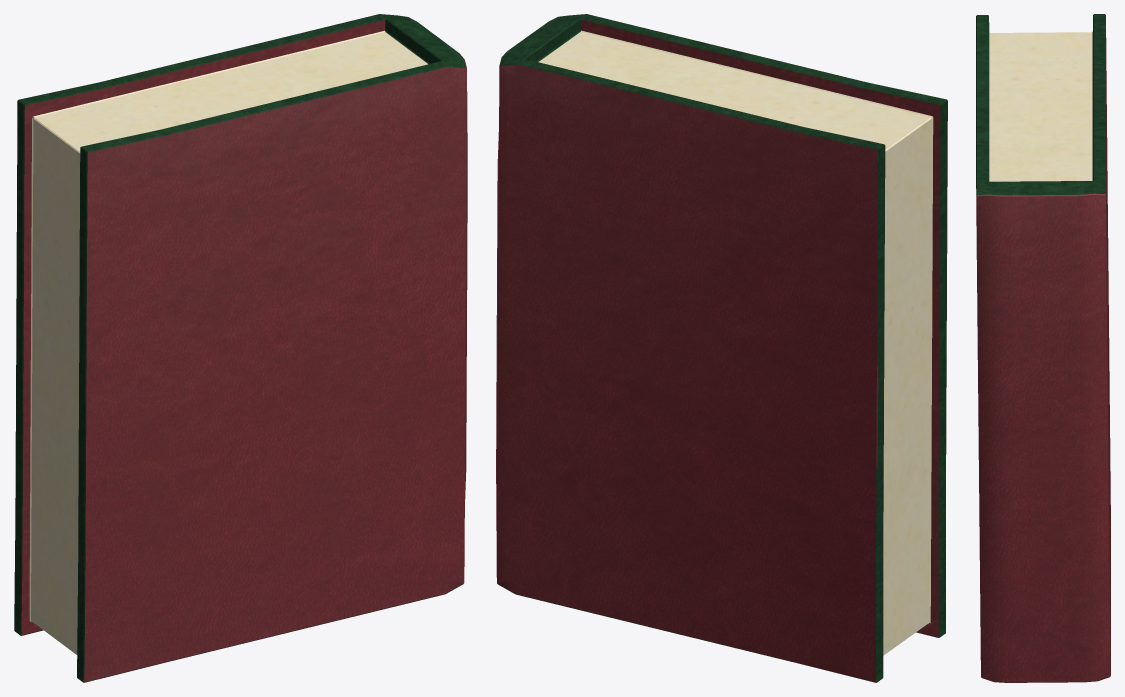
The model's file is bigBookRed.fbx.
The picture shows the model from 3 angles, left to right: view 1: azimuth 30°, elevation 25°; view 2: azimuth 150°, elevation 25°; view 3: azimuth 270°, elevation 25°; orthographic projection. The views are drawn at different scales.
Visible parts, largest first — view 1: book2; view 2: book2; view 3: book2.
Boxes of the visible parts, x1,y1,x2,y2 form: book2: (14,14,467,682); book2: (496,14,947,682); book2: (976,14,1110,682).
Size of the model in its own units: 23.97 by 31.3 by 7.68.
Materials: 1 (1 with a texture image).
